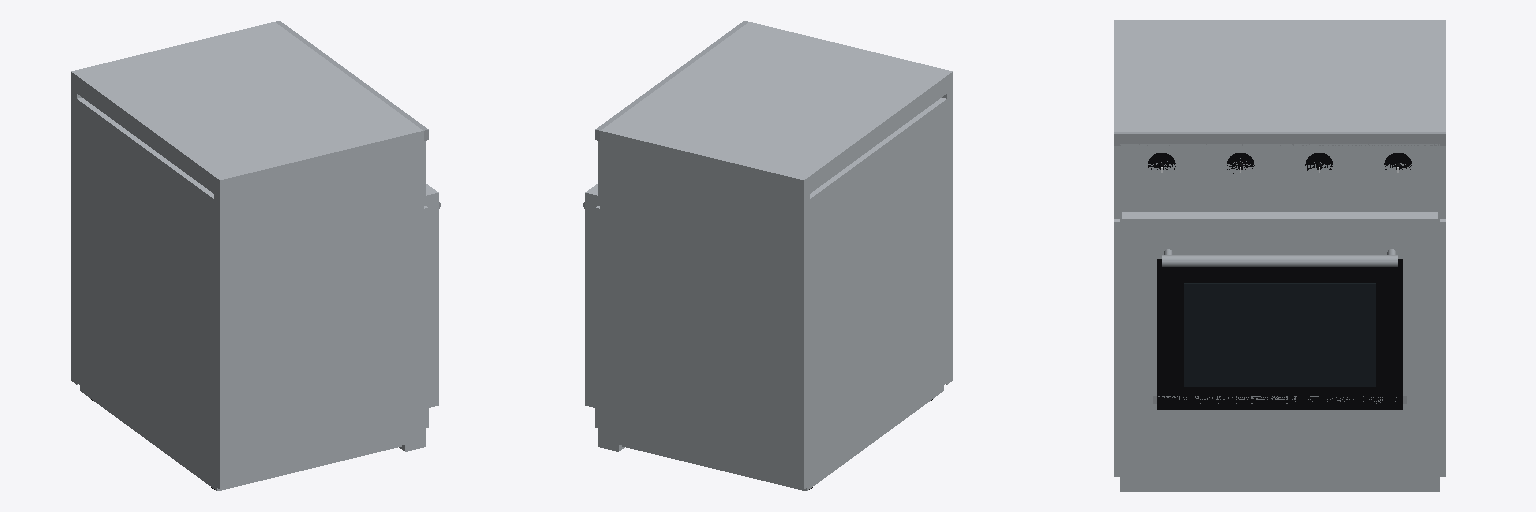
The robot description file, URDF, robot "conventional_oven":
<robot name="conventional_oven">
  <material name="stainless_steel">
    <color rgba="0.74 0.76 0.78 1" />
    </material>
  <material name="brushed_metal">
    <color rgba="0.67 0.69 0.71 1" />
    </material>
  <material name="charcoal_enamel">
    <color rgba="0.14 0.15 0.17 1" />
    </material>
  <material name="matte_black">
    <color rgba="0.1 0.1 0.11 1" />
    </material>
  <material name="rubber">
    <color rgba="0.08 0.08 0.08 1" />
    </material>
  <material name="chrome_rack">
    <color rgba="0.82 0.83 0.84 1" />
    </material>
  <material name="smoked_glass">
    <color rgba="0.15 0.18 0.2 0.35" />
    </material>
  <material name="display_glass">
    <color rgba="0.08 0.11 0.14 0.75" />
    </material>
  <material name="indicator_silver">
    <color rgba="0.9 0.91 0.92 1" />
    </material>
  <link name="body">
    <inertial>
      <origin xyz="0 0 0.45" rpy="0 0 0" />
      <mass value="58" />
      <inertia ixx="6.70673" ixy="0" ixz="0" iyy="5.77293" iyz="0" izz="4.64967" />
      </inertial>
    <visual>
      <origin xyz="0 -0.365 0.44" rpy="0 0 0" />
      <geometry>
        <box size="0.6 0.03 0.82" />
        </geometry>
      <material name="stainless_steel">
        <color rgba="0.74 0.76 0.78 1" />
        </material>
      </visual>
    <visual>
      <origin xyz="0 0.365 0.44" rpy="0 0 0" />
      <geometry>
        <box size="0.6 0.03 0.82" />
        </geometry>
      <material name="stainless_steel">
        <color rgba="0.74 0.76 0.78 1" />
        </material>
      </visual>
    <visual>
      <origin xyz="0 0 0.875" rpy="0 0 0" />
      <geometry>
        <box size="0.6 0.76 0.05" />
        </geometry>
      <material name="stainless_steel">
        <color rgba="0.74 0.76 0.78 1" />
        </material>
      </visual>
    <visual>
      <origin xyz="-0.01 0 0.0325" rpy="0 0 0" />
      <geometry>
        <box size="0.56 0.7 0.045" />
        </geometry>
      <material name="stainless_steel">
        <color rgba="0.74 0.76 0.78 1" />
        </material>
      </visual>
    <visual>
      <origin xyz="-0.285 0 0.435" rpy="0 0 0" />
      <geometry>
        <box size="0.03 0.7 0.8" />
        </geometry>
      <material name="stainless_steel">
        <color rgba="0.74 0.76 0.78 1" />
        </material>
      </visual>
    <visual>
      <origin xyz="0.285 -0.365 0.37" rpy="0 0 0" />
      <geometry>
        <box size="0.06 0.03 0.62" />
        </geometry>
      <material name="stainless_steel">
        <color rgba="0.74 0.76 0.78 1" />
        </material>
      </visual>
    <visual>
      <origin xyz="0.285 0.365 0.37" rpy="0 0 0" />
      <geometry>
        <box size="0.06 0.03 0.62" />
        </geometry>
      <material name="stainless_steel">
        <color rgba="0.74 0.76 0.78 1" />
        </material>
      </visual>
    <visual>
      <origin xyz="0.285 0 0.055" rpy="0 0 0" />
      <geometry>
        <box size="0.06 0.73 0.11" />
        </geometry>
      <material name="stainless_steel">
        <color rgba="0.74 0.76 0.78 1" />
        </material>
      </visual>
    <visual>
      <origin xyz="0.285 0 0.6825" rpy="0 0 0" />
      <geometry>
        <box size="0.06 0.73 0.055" />
        </geometry>
      <material name="stainless_steel">
        <color rgba="0.74 0.76 0.78 1" />
        </material>
      </visual>
    <visual>
      <origin xyz="0.285 0 0.73" rpy="0 0 0" />
      <geometry>
        <box size="0.06 0.73 0.04" />
        </geometry>
      <material name="stainless_steel">
        <color rgba="0.74 0.76 0.78 1" />
        </material>
      </visual>
    <visual>
      <origin xyz="0.285 0 0.8125" rpy="0 0 0" />
      <geometry>
        <box size="0.06 0.73 0.125" />
        </geometry>
      <material name="stainless_steel">
        <color rgba="0.74 0.76 0.78 1" />
        </material>
      </visual>
    <visual>
      <origin xyz="0.3075 0 0.885" rpy="0 0 0" />
      <geometry>
        <box size="0.015 0.76 0.03" />
        </geometry>
      <material name="brushed_metal">
        <color rgba="0.67 0.69 0.71 1" />
        </material>
      </visual>
    <visual>
      <origin xyz="0.0025 -0.339 0.39" rpy="0 0 0" />
      <geometry>
        <box size="0.505 0.018 0.55" />
        </geometry>
      <material name="charcoal_enamel">
        <color rgba="0.14 0.15 0.17 1" />
        </material>
      </visual>
    <visual>
      <origin xyz="0.0025 0.339 0.39" rpy="0 0 0" />
      <geometry>
        <box size="0.505 0.018 0.55" />
        </geometry>
      <material name="charcoal_enamel">
        <color rgba="0.14 0.15 0.17 1" />
        </material>
      </visual>
    <visual>
      <origin xyz="0.0025 0 0.116" rpy="0 0 0" />
      <geometry>
        <box size="0.505 0.66 0.018" />
        </geometry>
      <material name="charcoal_enamel">
        <color rgba="0.14 0.15 0.17 1" />
        </material>
      </visual>
    <visual>
      <origin xyz="0.0025 0 0.664" rpy="0 0 0" />
      <geometry>
        <box size="0.505 0.66 0.018" />
        </geometry>
      <material name="charcoal_enamel">
        <color rgba="0.14 0.15 0.17 1" />
        </material>
      </visual>
    <visual>
      <origin xyz="-0.246 0 0.39" rpy="0 0 0" />
      <geometry>
        <box size="0.018 0.66 0.55" />
        </geometry>
      <material name="charcoal_enamel">
        <color rgba="0.14 0.15 0.17 1" />
        </material>
      </visual>
    <visual>
      <origin xyz="0.252 -0.324 0.39" rpy="0 0 0" />
      <geometry>
        <box size="0.01 0.012 0.55" />
        </geometry>
      <material name="matte_black">
        <color rgba="0.1 0.1 0.11 1" />
        </material>
      </visual>
    <visual>
      <origin xyz="0.252 0.324 0.39" rpy="0 0 0" />
      <geometry>
        <box size="0.01 0.012 0.55" />
        </geometry>
      <material name="matte_black">
        <color rgba="0.1 0.1 0.11 1" />
        </material>
      </visual>
    <visual>
      <origin xyz="0.252 0 0.121" rpy="0 0 0" />
      <geometry>
        <box size="0.01 0.64 0.012" />
        </geometry>
      <material name="matte_black">
        <color rgba="0.1 0.1 0.11 1" />
        </material>
      </visual>
    <visual>
      <origin xyz="0.252 0 0.659" rpy="0 0 0" />
      <geometry>
        <box size="0.01 0.64 0.012" />
        </geometry>
      <material name="matte_black">
        <color rgba="0.1 0.1 0.11 1" />
        </material>
      </visual>
    <visual>
      <origin xyz="-0.236 0 0.405" rpy="0 1.5708 0" />
      <geometry>
        <cylinder radius="0.078" length="0.004" />
        </geometry>
      <material name="matte_black">
        <color rgba="0.1 0.1 0.11 1" />
        </material>
      </visual>
    <visual>
      <origin xyz="-0.231 0 0.405" rpy="0 1.5708 0" />
      <geometry>
        <cylinder radius="0.018" length="0.01" />
        </geometry>
      <material name="brushed_metal">
        <color rgba="0.67 0.69 0.71 1" />
        </material>
      </visual>
    <visual>
      <origin xyz="-0.231 0.235 0.58" rpy="0 1.5708 0" />
      <geometry>
        <cylinder radius="0.025" length="0.008" />
        </geometry>
      <material name="smoked_glass">
        <color rgba="0.15 0.18 0.2 0.35" />
        </material>
      </visual>
    <visual>
      <origin xyz="0.005 -0.321 0.276" rpy="0 0 0" />
      <geometry>
        <box size="0.46 0.026 0.006" />
        </geometry>
      <material name="charcoal_enamel">
        <color rgba="0.14 0.15 0.17 1" />
        </material>
      </visual>
    <visual>
      <origin xyz="0.005 0.321 0.276" rpy="0 0 0" />
      <geometry>
        <box size="0.46 0.026 0.006" />
        </geometry>
      <material name="charcoal_enamel">
        <color rgba="0.14 0.15 0.17 1" />
        </material>
      </visual>
    <visual>
      <origin xyz="0.005 0 0.276" rpy="0 0 0" />
      <geometry>
        <mesh filename="assets/meshes/oven_rack.obj" />
        </geometry>
      <material name="chrome_rack">
        <color rgba="0.82 0.83 0.84 1" />
        </material>
      </visual>
    <visual>
      <origin xyz="0.005 -0.321 0.463" rpy="0 0 0" />
      <geometry>
        <box size="0.46 0.026 0.006" />
        </geometry>
      <material name="charcoal_enamel">
        <color rgba="0.14 0.15 0.17 1" />
        </material>
      </visual>
    <visual>
      <origin xyz="0.005 0.321 0.463" rpy="0 0 0" />
      <geometry>
        <box size="0.46 0.026 0.006" />
        </geometry>
      <material name="charcoal_enamel">
        <color rgba="0.14 0.15 0.17 1" />
        </material>
      </visual>
    <visual>
      <origin xyz="0.005 0 0.463" rpy="0 0 0" />
      <geometry>
        <mesh filename="assets/meshes/oven_rack.obj" />
        </geometry>
      <material name="chrome_rack">
        <color rgba="0.82 0.83 0.84 1" />
        </material>
      </visual>
    <visual>
      <origin xyz="0.308 0 0.815" rpy="0 0 0" />
      <geometry>
        <box size="0.008 0.145 0.065" />
        </geometry>
      <material name="matte_black">
        <color rgba="0.1 0.1 0.11 1" />
        </material>
      </visual>
    <visual>
      <origin xyz="0.312 0 0.815" rpy="0 0 0" />
      <geometry>
        <box size="0.002 0.118 0.045" />
        </geometry>
      <material name="display_glass">
        <color rgba="0.08 0.11 0.14 0.75" />
        </material>
      </visual>
    <visual>
      <origin xyz="0.307 -0.085 0.775" rpy="0 0 0" />
      <geometry>
        <box size="0.006 0.022 0.014" />
        </geometry>
      <material name="matte_black">
        <color rgba="0.1 0.1 0.11 1" />
        </material>
      </visual>
    <visual>
      <origin xyz="0.307 -0.04 0.775" rpy="0 0 0" />
      <geometry>
        <box size="0.006 0.022 0.014" />
        </geometry>
      <material name="matte_black">
        <color rgba="0.1 0.1 0.11 1" />
        </material>
      </visual>
    <visual>
      <origin xyz="0.307 0.04 0.775" rpy="0 0 0" />
      <geometry>
        <box size="0.006 0.022 0.014" />
        </geometry>
      <material name="matte_black">
        <color rgba="0.1 0.1 0.11 1" />
        </material>
      </visual>
    <visual>
      <origin xyz="0.307 0.085 0.775" rpy="0 0 0" />
      <geometry>
        <box size="0.006 0.022 0.014" />
        </geometry>
      <material name="matte_black">
        <color rgba="0.1 0.1 0.11 1" />
        </material>
      </visual>
    <visual>
      <origin xyz="0.307 -0.18 0.732" rpy="0 0 0" />
      <geometry>
        <box size="0.003 0.058 0.004" />
        </geometry>
      <material name="matte_black">
        <color rgba="0.1 0.1 0.11 1" />
        </material>
      </visual>
    <visual>
      <origin xyz="0.307 -0.09 0.732" rpy="0 0 0" />
      <geometry>
        <box size="0.003 0.058 0.004" />
        </geometry>
      <material name="matte_black">
        <color rgba="0.1 0.1 0.11 1" />
        </material>
      </visual>
    <visual>
      <origin xyz="0.307 0 0.732" rpy="0 0 0" />
      <geometry>
        <box size="0.003 0.058 0.004" />
        </geometry>
      <material name="matte_black">
        <color rgba="0.1 0.1 0.11 1" />
        </material>
      </visual>
    <visual>
      <origin xyz="0.307 0.09 0.732" rpy="0 0 0" />
      <geometry>
        <box size="0.003 0.058 0.004" />
        </geometry>
      <material name="matte_black">
        <color rgba="0.1 0.1 0.11 1" />
        </material>
      </visual>
    <visual>
      <origin xyz="0.307 0.18 0.732" rpy="0 0 0" />
      <geometry>
        <box size="0.003 0.058 0.004" />
        </geometry>
      <material name="matte_black">
        <color rgba="0.1 0.1 0.11 1" />
        </material>
      </visual>
    <visual>
      <origin xyz="0.313 -0.27 0.822" rpy="0 1.5708 0" />
      <geometry>
        <cylinder radius="0.032" length="0.004" />
        </geometry>
      <material name="matte_black">
        <color rgba="0.1 0.1 0.11 1" />
        </material>
      </visual>
    <visual>
      <origin xyz="0.313 -0.09 0.822" rpy="0 1.5708 0" />
      <geometry>
        <cylinder radius="0.032" length="0.004" />
        </geometry>
      <material name="matte_black">
        <color rgba="0.1 0.1 0.11 1" />
        </material>
      </visual>
    <visual>
      <origin xyz="0.313 0.09 0.822" rpy="0 1.5708 0" />
      <geometry>
        <cylinder radius="0.032" length="0.004" />
        </geometry>
      <material name="matte_black">
        <color rgba="0.1 0.1 0.11 1" />
        </material>
      </visual>
    <visual>
      <origin xyz="0.313 0.27 0.822" rpy="0 1.5708 0" />
      <geometry>
        <cylinder radius="0.032" length="0.004" />
        </geometry>
      <material name="matte_black">
        <color rgba="0.1 0.1 0.11 1" />
        </material>
      </visual>
    <visual>
      <origin xyz="-0.26 -0.31 0.01" rpy="0 0 0" />
      <geometry>
        <cylinder radius="0.022" length="0.02" />
        </geometry>
      <material name="rubber">
        <color rgba="0.08 0.08 0.08 1" />
        </material>
      </visual>
    <visual>
      <origin xyz="-0.26 0.31 0.01" rpy="0 0 0" />
      <geometry>
        <cylinder radius="0.022" length="0.02" />
        </geometry>
      <material name="rubber">
        <color rgba="0.08 0.08 0.08 1" />
        </material>
      </visual>
    <visual>
      <origin xyz="0.26 -0.31 0.01" rpy="0 0 0" />
      <geometry>
        <cylinder radius="0.022" length="0.02" />
        </geometry>
      <material name="rubber">
        <color rgba="0.08 0.08 0.08 1" />
        </material>
      </visual>
    <visual>
      <origin xyz="0.26 0.31 0.01" rpy="0 0 0" />
      <geometry>
        <cylinder radius="0.022" length="0.02" />
        </geometry>
      <material name="rubber">
        <color rgba="0.08 0.08 0.08 1" />
        </material>
      </visual>
    </link>
  <link name="door">
    <inertial>
      <origin xyz="0.0225 0 0.3" rpy="0 0 0" />
      <mass value="9" />
      <inertia ixx="0.6588" ixy="0" ixz="0" iyy="0.271519" iyz="0" izz="0.390319" />
      </inertial>
    <visual>
      <origin xyz="0.02 0 0.3" rpy="0 0 0" />
      <geometry>
        <box size="0.04 0.72 0.6" />
        </geometry>
      <material name="stainless_steel">
        <color rgba="0.74 0.76 0.78 1" />
        </material>
      </visual>
    <visual>
      <origin xyz="0.039 0 0.31" rpy="0 0 0" />
      <geometry>
        <box size="0.004 0.56 0.38" />
        </geometry>
      <material name="matte_black">
        <color rgba="0.1 0.1 0.11 1" />
        </material>
      </visual>
    <visual>
      <origin xyz="0.042 0 0.31" rpy="0 0 0" />
      <geometry>
        <box size="0.006 0.44 0.26" />
        </geometry>
      <material name="smoked_glass">
        <color rgba="0.15 0.18 0.2 0.35" />
        </material>
      </visual>
    <visual>
      <origin xyz="0.014 0 0.275" rpy="0 0 0" />
      <geometry>
        <box size="0.024 0.64 0.48" />
        </geometry>
      <material name="charcoal_enamel">
        <color rgba="0.14 0.15 0.17 1" />
        </material>
      </visual>
    <visual>
      <origin xyz="0.02 0 0.29" rpy="0 0 0" />
      <geometry>
        <box size="0.004 0.4 0.22" />
        </geometry>
      <material name="smoked_glass">
        <color rgba="0.15 0.18 0.2 0.35" />
        </material>
      </visual>
    <visual>
      <origin xyz="0.039 0 0.145" rpy="0 0 0" />
      <geometry>
        <box size="0.004 0.58 0.018" />
        </geometry>
      <material name="brushed_metal">
        <color rgba="0.67 0.69 0.71 1" />
        </material>
      </visual>
    <visual>
      <origin xyz="0.085 0 0.515" rpy="1.5708 0 0" />
      <geometry>
        <cylinder radius="0.014" length="0.54" />
        </geometry>
      <material name="brushed_metal">
        <color rgba="0.67 0.69 0.71 1" />
        </material>
      </visual>
    <visual>
      <origin xyz="0.055 -0.255 0.515" rpy="0 1.5708 0" />
      <geometry>
        <cylinder radius="0.01" length="0.06" />
        </geometry>
      <material name="brushed_metal">
        <color rgba="0.67 0.69 0.71 1" />
        </material>
      </visual>
    <visual>
      <origin xyz="0.055 0.255 0.515" rpy="0 1.5708 0" />
      <geometry>
        <cylinder radius="0.01" length="0.06" />
        </geometry>
      <material name="brushed_metal">
        <color rgba="0.67 0.69 0.71 1" />
        </material>
      </visual>
    </link>
  <link name="knob_left_outer">
    <inertial>
      <origin xyz="0.027 0 0" rpy="0 0 0" />
      <mass value="0.12" />
      <inertia ixx="4.232e-05" ixy="0" ixz="0" iyy="5.032e-05" iyz="0" izz="5.032e-05" />
      </inertial>
    <visual>
      <origin xyz="0.007 0 0" rpy="0 1.5708 0" />
      <geometry>
        <cylinder radius="0.006" length="0.014" />
        </geometry>
      <material name="matte_black">
        <color rgba="0.1 0.1 0.11 1" />
        </material>
      </visual>
    <visual>
      <origin xyz="0.012 0 0" rpy="0 0 0" />
      <geometry>
        <mesh filename="assets/meshes/oven_knob.obj" />
        </geometry>
      <material name="brushed_metal">
        <color rgba="0.67 0.69 0.71 1" />
        </material>
      </visual>
    <visual>
      <origin xyz="0.046 0 0.01" rpy="0 0 0" />
      <geometry>
        <box size="0.006 0.004 0.012" />
        </geometry>
      <material name="indicator_silver">
        <color rgba="0.9 0.91 0.92 1" />
        </material>
      </visual>
    </link>
  <link name="knob_left_inner">
    <inertial>
      <origin xyz="0.027 0 0" rpy="0 0 0" />
      <mass value="0.12" />
      <inertia ixx="4.232e-05" ixy="0" ixz="0" iyy="5.032e-05" iyz="0" izz="5.032e-05" />
      </inertial>
    <visual>
      <origin xyz="0.007 0 0" rpy="0 1.5708 0" />
      <geometry>
        <cylinder radius="0.006" length="0.014" />
        </geometry>
      <material name="matte_black">
        <color rgba="0.1 0.1 0.11 1" />
        </material>
      </visual>
    <visual>
      <origin xyz="0.012 0 0" rpy="0 0 0" />
      <geometry>
        <mesh filename="assets/meshes/oven_knob.obj" />
        </geometry>
      <material name="brushed_metal">
        <color rgba="0.67 0.69 0.71 1" />
        </material>
      </visual>
    <visual>
      <origin xyz="0.046 0 0.01" rpy="0 0 0" />
      <geometry>
        <box size="0.006 0.004 0.012" />
        </geometry>
      <material name="indicator_silver">
        <color rgba="0.9 0.91 0.92 1" />
        </material>
      </visual>
    </link>
  <link name="knob_right_inner">
    <inertial>
      <origin xyz="0.027 0 0" rpy="0 0 0" />
      <mass value="0.12" />
      <inertia ixx="4.232e-05" ixy="0" ixz="0" iyy="5.032e-05" iyz="0" izz="5.032e-05" />
      </inertial>
    <visual>
      <origin xyz="0.007 0 0" rpy="0 1.5708 0" />
      <geometry>
        <cylinder radius="0.006" length="0.014" />
        </geometry>
      <material name="matte_black">
        <color rgba="0.1 0.1 0.11 1" />
        </material>
      </visual>
    <visual>
      <origin xyz="0.012 0 0" rpy="0 0 0" />
      <geometry>
        <mesh filename="assets/meshes/oven_knob.obj" />
        </geometry>
      <material name="brushed_metal">
        <color rgba="0.67 0.69 0.71 1" />
        </material>
      </visual>
    <visual>
      <origin xyz="0.046 0 0.01" rpy="0 0 0" />
      <geometry>
        <box size="0.006 0.004 0.012" />
        </geometry>
      <material name="indicator_silver">
        <color rgba="0.9 0.91 0.92 1" />
        </material>
      </visual>
    </link>
  <link name="knob_right_outer">
    <inertial>
      <origin xyz="0.027 0 0" rpy="0 0 0" />
      <mass value="0.12" />
      <inertia ixx="4.232e-05" ixy="0" ixz="0" iyy="5.032e-05" iyz="0" izz="5.032e-05" />
      </inertial>
    <visual>
      <origin xyz="0.007 0 0" rpy="0 1.5708 0" />
      <geometry>
        <cylinder radius="0.006" length="0.014" />
        </geometry>
      <material name="matte_black">
        <color rgba="0.1 0.1 0.11 1" />
        </material>
      </visual>
    <visual>
      <origin xyz="0.012 0 0" rpy="0 0 0" />
      <geometry>
        <mesh filename="assets/meshes/oven_knob.obj" />
        </geometry>
      <material name="brushed_metal">
        <color rgba="0.67 0.69 0.71 1" />
        </material>
      </visual>
    <visual>
      <origin xyz="0.046 0 0.01" rpy="0 0 0" />
      <geometry>
        <box size="0.006 0.004 0.012" />
        </geometry>
      <material name="indicator_silver">
        <color rgba="0.9 0.91 0.92 1" />
        </material>
      </visual>
    </link>
  <joint name="door_hinge" type="revolute">
    <origin xyz="0.316 0 0.105" rpy="0 0 0" />
    <parent link="body" />
    <child link="door" />
    <axis xyz="0 1 0" />
    <limit effort="90" velocity="1.5" lower="0" upper="1.55" />
    </joint>
  <joint name="knob_left_outer_joint" type="revolute">
    <origin xyz="0.316 -0.27 0.822" rpy="0 0 0" />
    <parent link="body" />
    <child link="knob_left_outer" />
    <axis xyz="1 0 0" />
    <limit effort="0.7" velocity="4" lower="-2.35" upper="2.35" />
    </joint>
  <joint name="knob_left_inner_joint" type="revolute">
    <origin xyz="0.316 -0.09 0.822" rpy="0 0 0" />
    <parent link="body" />
    <child link="knob_left_inner" />
    <axis xyz="1 0 0" />
    <limit effort="0.7" velocity="4" lower="-2.35" upper="2.35" />
    </joint>
  <joint name="knob_right_inner_joint" type="revolute">
    <origin xyz="0.316 0.09 0.822" rpy="0 0 0" />
    <parent link="body" />
    <child link="knob_right_inner" />
    <axis xyz="1 0 0" />
    <limit effort="0.7" velocity="4" lower="-2.35" upper="2.35" />
    </joint>
  <joint name="knob_right_outer_joint" type="revolute">
    <origin xyz="0.316 0.27 0.822" rpy="0 0 0" />
    <parent link="body" />
    <child link="knob_right_outer" />
    <axis xyz="1 0 0" />
    <limit effort="0.7" velocity="4" lower="-2.35" upper="2.35" />
    </joint>
  </robot>

--- What the picture shows (computed from the rendered views, not written in the file) ---
3 views of the same robot in one strip: view 1: azimuth 30°, elevation 25°; view 2: azimuth 150°, elevation 25°; view 3: azimuth 270°, elevation 25° (orthographic).
Robot: conventional_oven — 6 links, 5 joints (5 revolute); root link body; default pose: every joint at zero.
Links seen in each view (by area): view 1: body, door; view 2: body, door; view 3: body, door.
Link boxes in pixels (x1,y1,x2,y2): body: (71,21,428,490); door: (426,184,440,407); body: (595,21,952,490); door: (583,184,597,407); body: (1114,20,1445,491); door: (1122,212,1437,456).
Size in the robot's own frame: 0.715 by 0.76 by 0.9 metres.
Meshes: 2 distinct files referenced, 0 mesh visuals loaded (none loaded); not drawn: 6 (reference not matched to a file when rendering).
